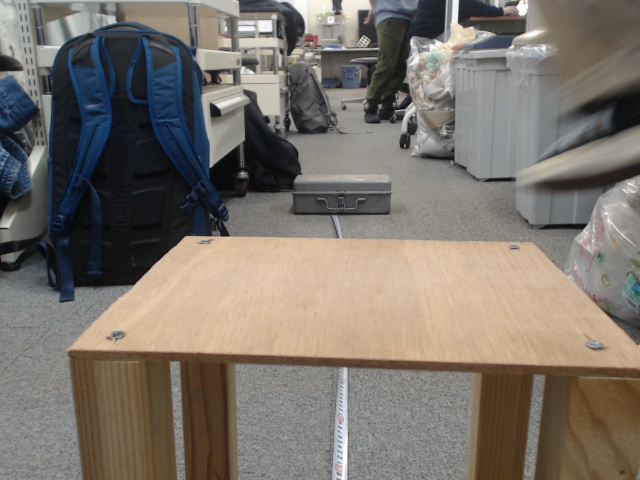desk: (293, 73, 523, 323)
